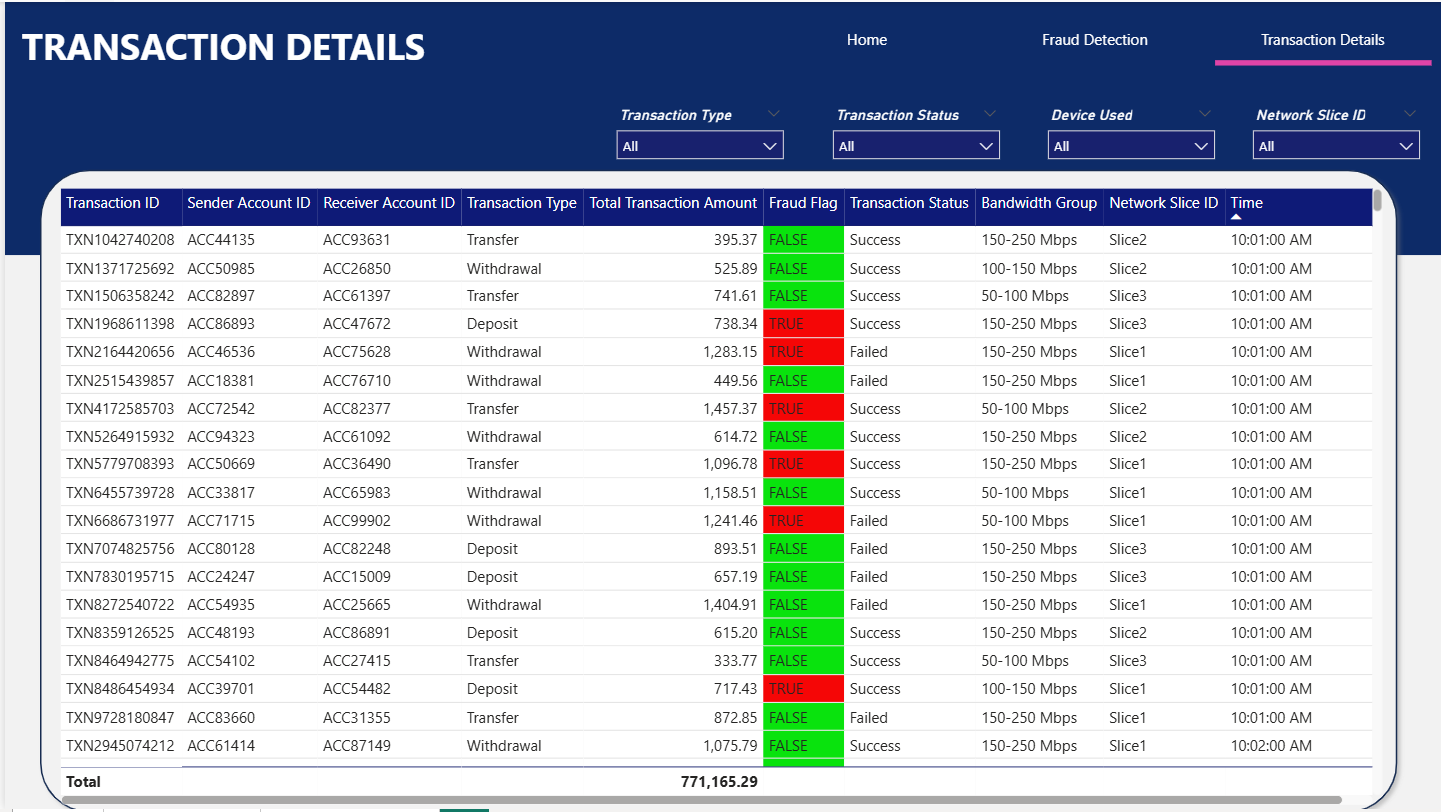

The dashboard page shown, as its layout file describes it:
{"tool":"powerbi","page":{"name":"Transaction Details","canvas":[1280,720],"ordinal":2},"visuals":[{"type":"tableEx","fields":{"Values":["bank transaction_data.Transaction ID","bank transaction_data.Sender Account ID","bank transaction_data.Receiver Account ID","bank transaction_data.Transaction Type","bank transaction_data.Total Transaction Amount","bank transaction_data.Fraud Flag","bank transaction_data.Transaction Status","bank transaction_data.Bandwidth Group","bank transaction_data.Network Slice ID","bank transaction_data.Time"]},"box":[43.4,161.7,1188.3,558.6],"z":0},{"type":"textbox","box":[9.7,12.1,493.4,88.1],"z":1000},{"type":"slicer","fields":{"Values":["bank transaction_data.Network Slice ID"]},"box":[1101.5,88.1,168.9,60.3],"z":2000},{"type":"slicer","fields":{"Values":["bank transaction_data.Device Used"]},"box":[918.9,88.1,168.9,60.3],"z":3000},{"type":"slicer","fields":{"Values":["bank transaction_data.Transaction Status"]},"box":[726.7,88.1,168.9,60.3],"z":4000},{"type":"slicer","fields":{"Values":["bank transaction_data.Transaction Type"]},"box":[534.5,88.1,168.9,60.3],"z":5000},{"type":"pageNavigator","box":[670.8,7.2,599.6,49.5],"z":6000}]}

Visuals, with their boxes in screenshot pixels (x1, y1, x2, y2), scaled from the page's 1280x720 canvas onto the 1441x812 screenshot:
tableEx - bank transaction_data.Transaction ID x bank transaction_data.Sender Account ID: l=49, t=182, r=1387, b=811
textbox: l=11, t=14, r=566, b=113
slicer - bank transaction_data.Network Slice ID: l=1240, t=99, r=1430, b=167
slicer - bank transaction_data.Device Used: l=1034, t=99, r=1225, b=167
slicer - bank transaction_data.Transaction Status: l=818, t=99, r=1008, b=167
slicer - bank transaction_data.Transaction Type: l=602, t=99, r=792, b=167
pageNavigator: l=755, t=8, r=1430, b=64
